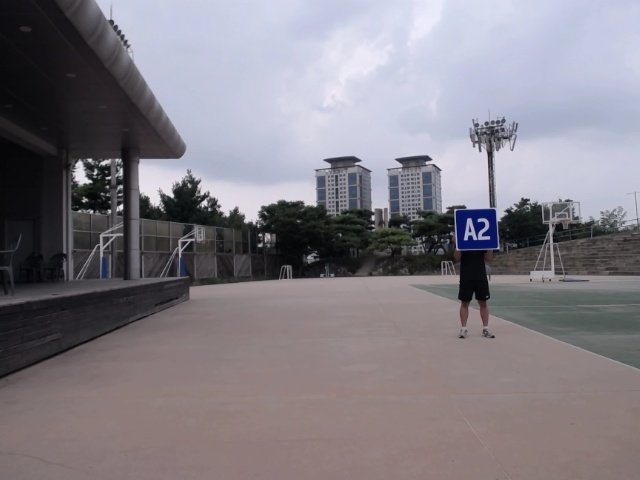delivery_a2: (455, 209, 499, 250)
